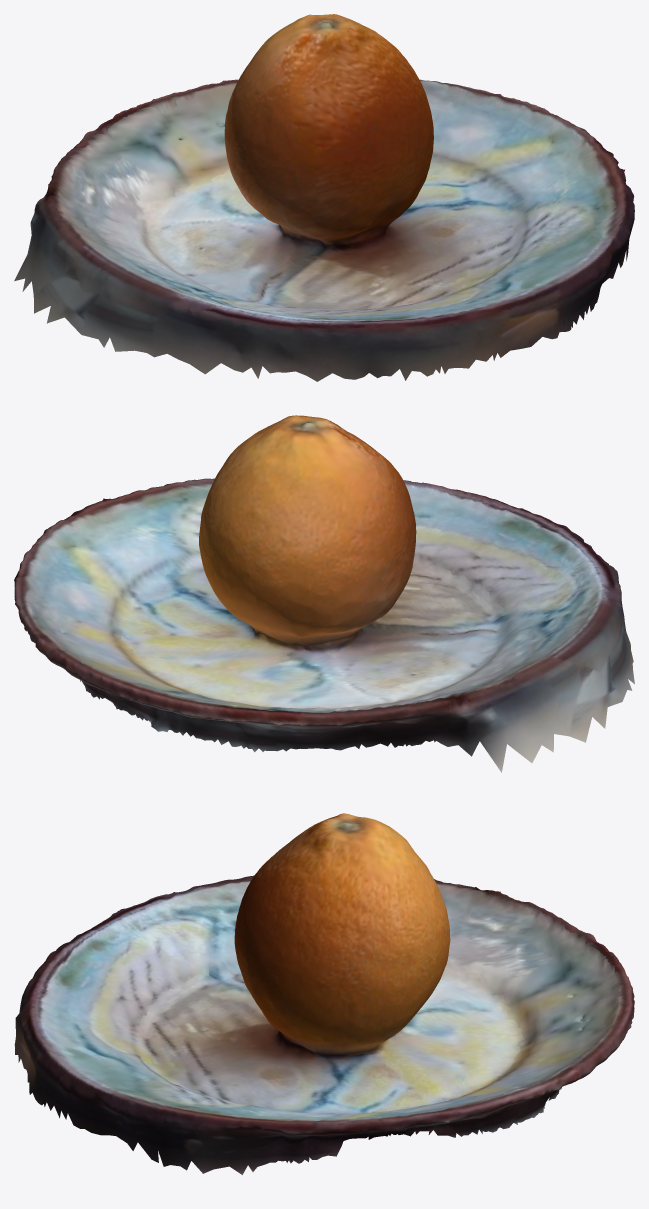
File: laranja.glb
3 renders of one model, top to bottom at view 1: azimuth 30°, elevation 25°; view 2: azimuth 150°, elevation 25°; view 3: azimuth 270°, elevation 25°, orthographic. The views are drawn at different scales.
Parts seen in each view (by area): view 1: mesh; view 2: mesh; view 3: mesh.
Part boxes in pixels (x1,y1,x2,y2): mesh: (14, 14, 634, 381); mesh: (14, 415, 634, 772); mesh: (14, 813, 634, 1174).
Bounding box in the file's own units: 0.2391 × 0.0984 × 0.2284.
2 materials, 1 textured.
